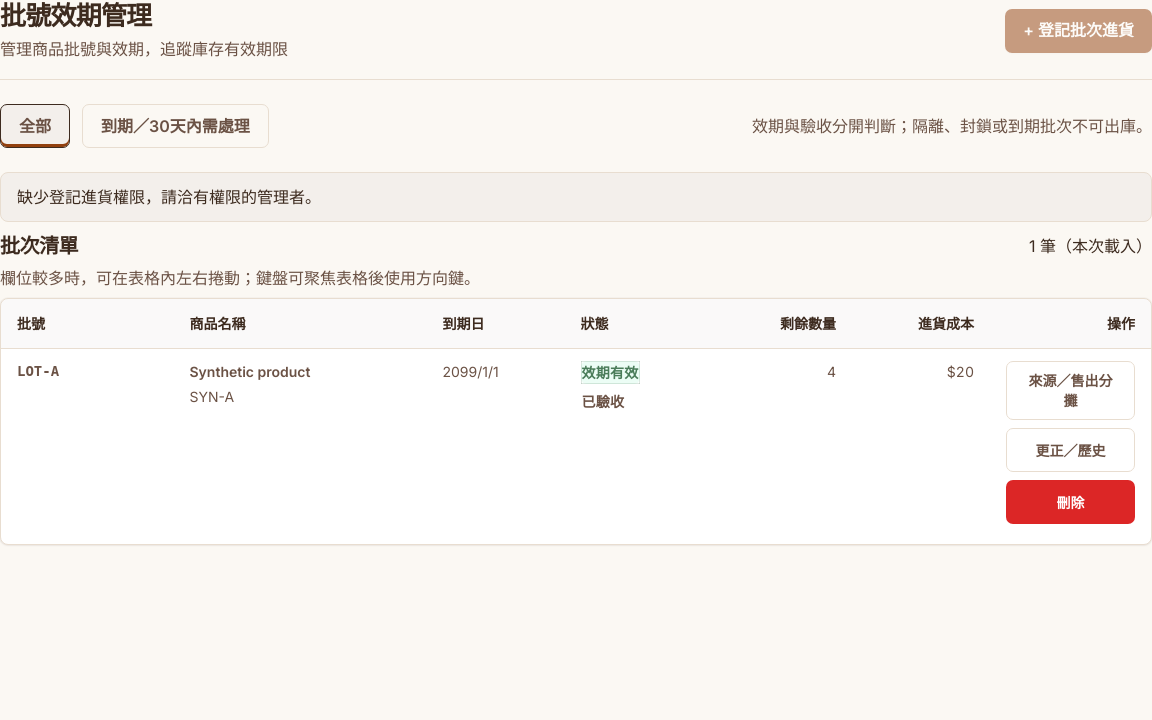
Test: batch source dialog through real read client and synthetic HTTP › opens from the filtered real batch page and closing preserves filter and returns focus
Check: the text "LOT-A" is shown, box [17,363,59,379]
Click the button "到期／30天內需處理" at {"x": 175, "y": 126}, box [82,104,269,148]
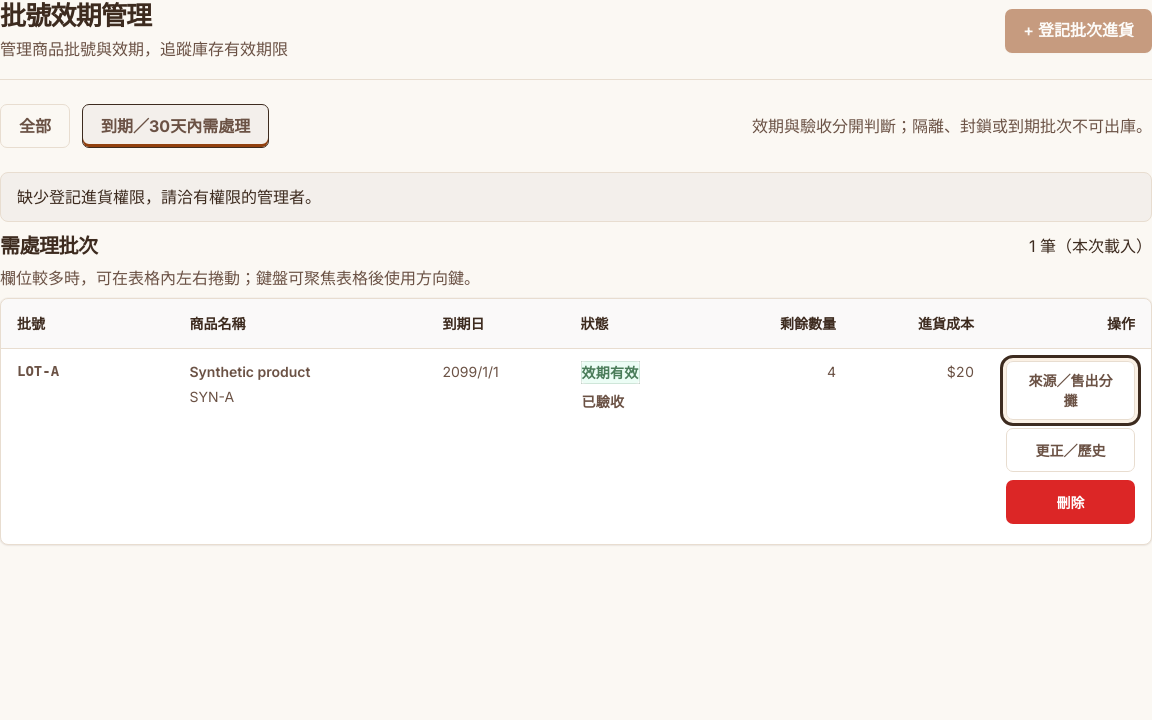
Click the button "來源／售出分攤" at {"x": 1070, "y": 391}, box [1006,361,1135,420]
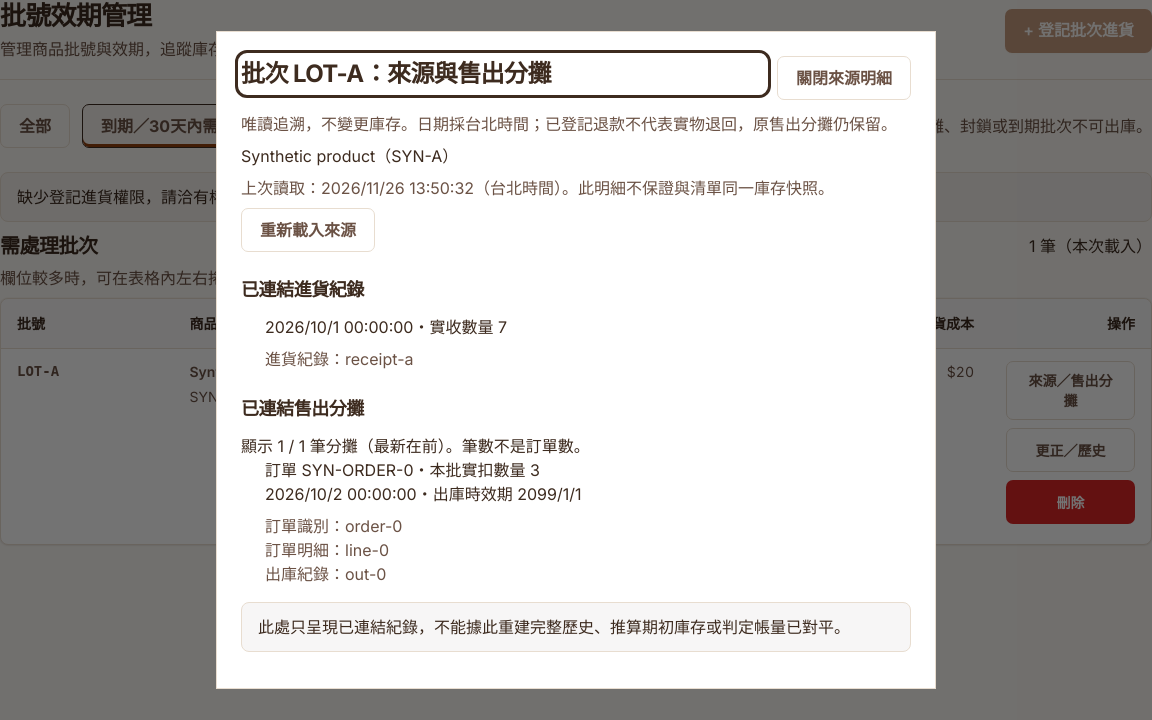
Check: the text "訂單 SYN-ORDER-0・本批實扣數量 3" is shown, box [265,460,540,480]
Click the button "關閉來源明細" at {"x": 844, "y": 78}, box [777,56,911,100]
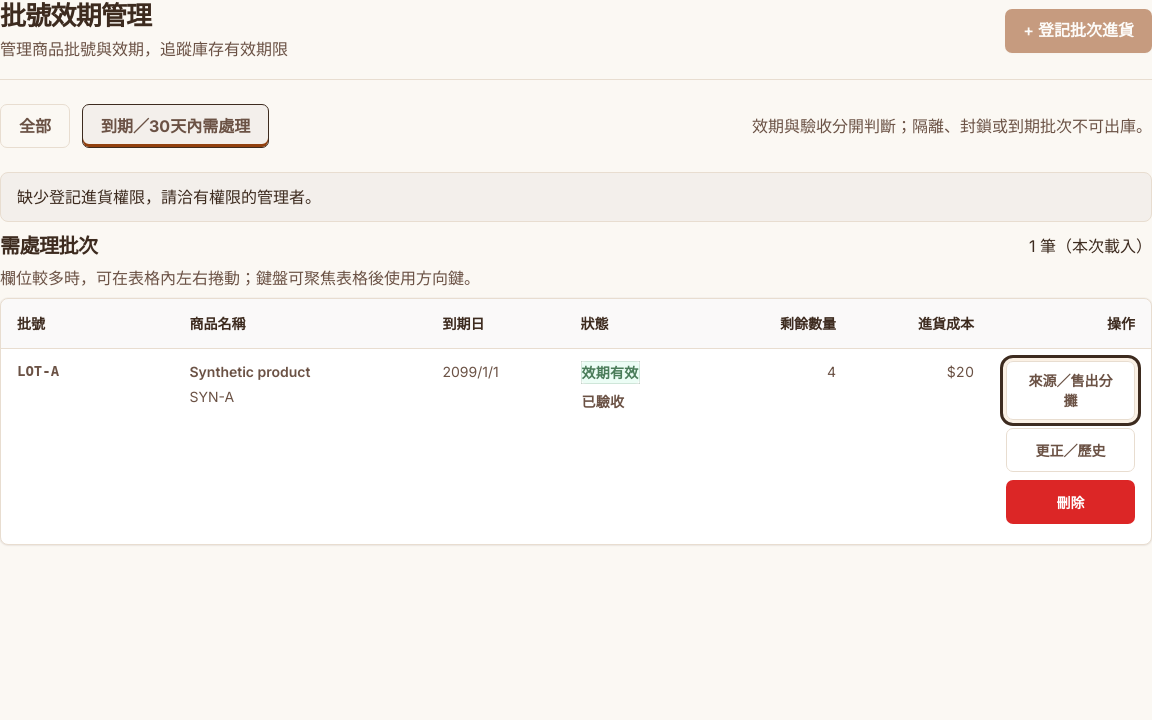
Check: the dialog is gone
